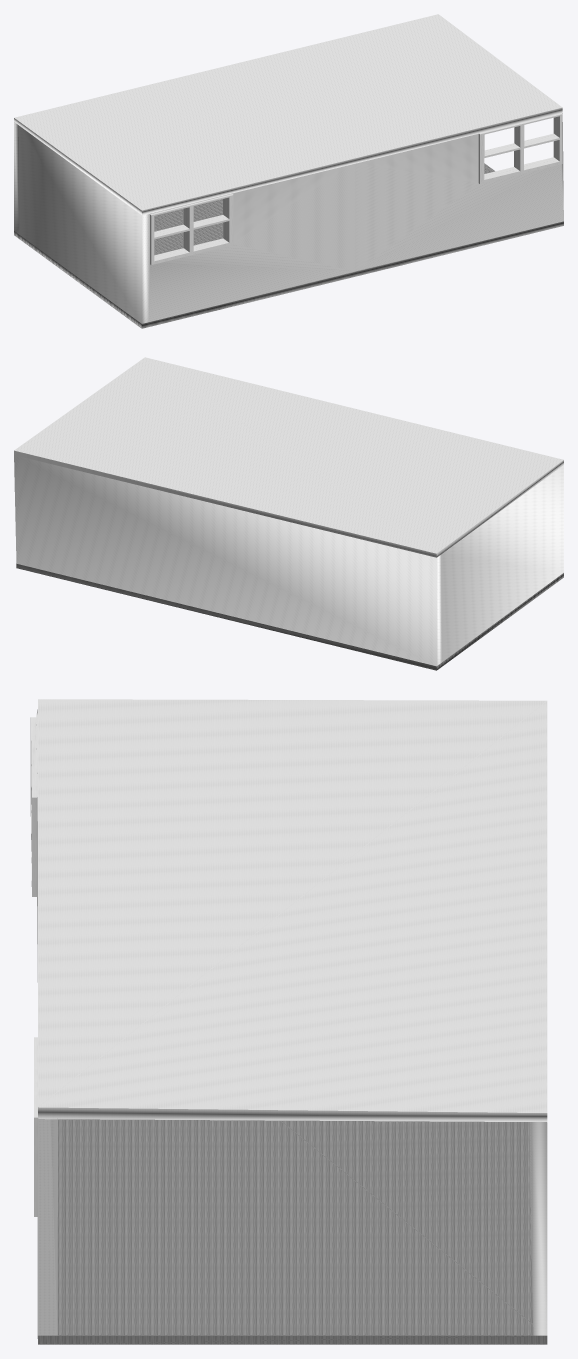
File: laboratorio.obj
3 views of the same model, one above another, from view 1: azimuth 30°, elevation 25°; view 2: azimuth 150°, elevation 25°; view 3: azimuth 270°, elevation 25° (orthographic). The views are drawn at different scales.
Visible parts, largest first — view 1: cuarto.007, cuarto.001, cuarto.004, cuarto, cuarto.008, cuarto.006; view 2: cuarto.007, cuarto.006, cuarto, cuarto.008; view 3: cuarto.007, cuarto.008, cuarto.001, cuarto.006, cuarto.004.
Boxes of the visible parts, box(x1,y1,x2,y2) form: cuarto.007: box(14, 14, 562, 215); cuarto.001: box(355, 113, 563, 271); cuarto.004: box(149, 164, 355, 321); cuarto: box(18, 125, 149, 323); cuarto.008: box(14, 163, 563, 328); cuarto.006: box(14, 122, 19, 234); cuarto.007: box(14, 357, 563, 557); cuarto.006: box(14, 455, 441, 666); cuarto: box(441, 465, 563, 661); cuarto.008: box(16, 563, 563, 670); cuarto.007: box(38, 699, 547, 1121); cuarto.008: box(37, 1119, 547, 1344); cuarto.001: box(34, 1037, 57, 1335); cuarto.006: box(529, 1122, 547, 1335); cuarto.004: box(30, 715, 37, 982).
Bounding box in the file's own units: 37.43 × 9.99 × 19.8.
